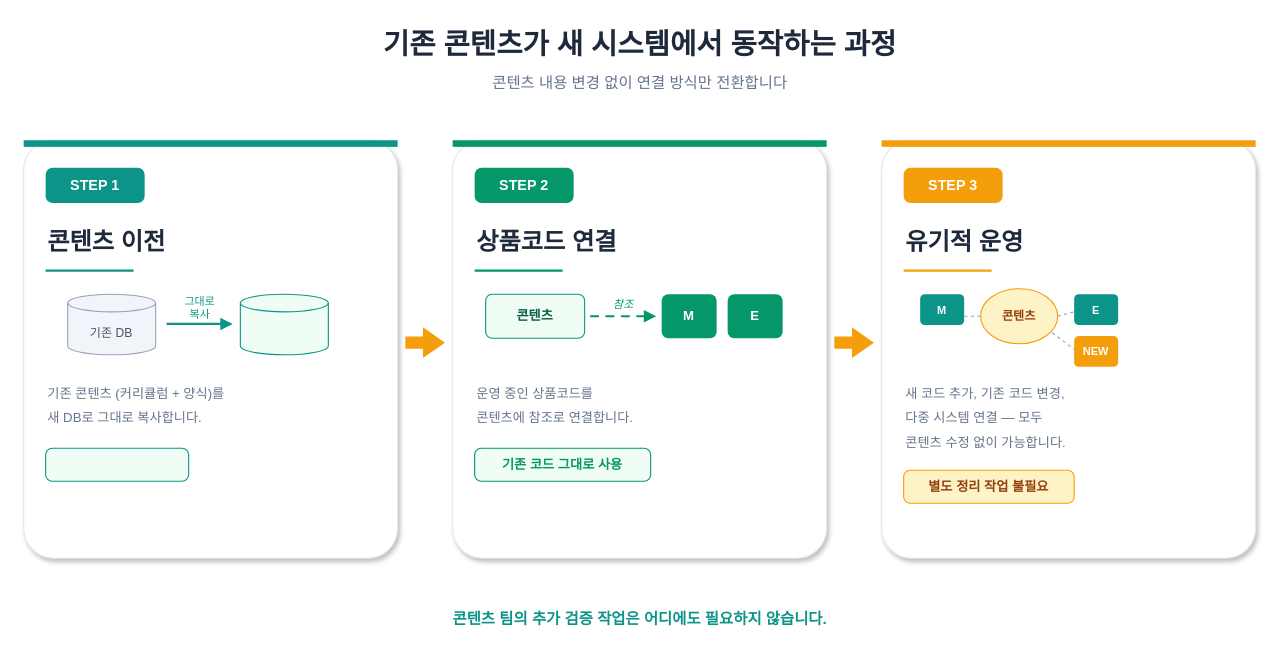
This 1282x653 diagram has some shape labels left out. Here are the shapes that lost their labels. From the top down, the centre of each, then its label:
At (x=283, y=324): "새 DB".
At (x=117, y=464): "내용 변경 없음".
